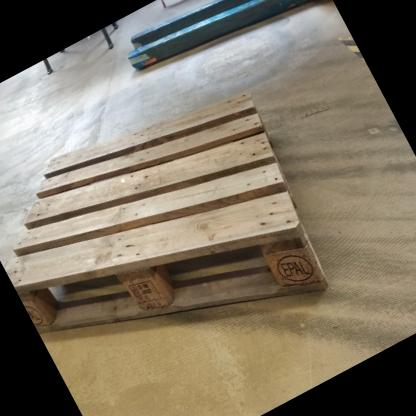BoxFace: (0, 85, 338, 339)
